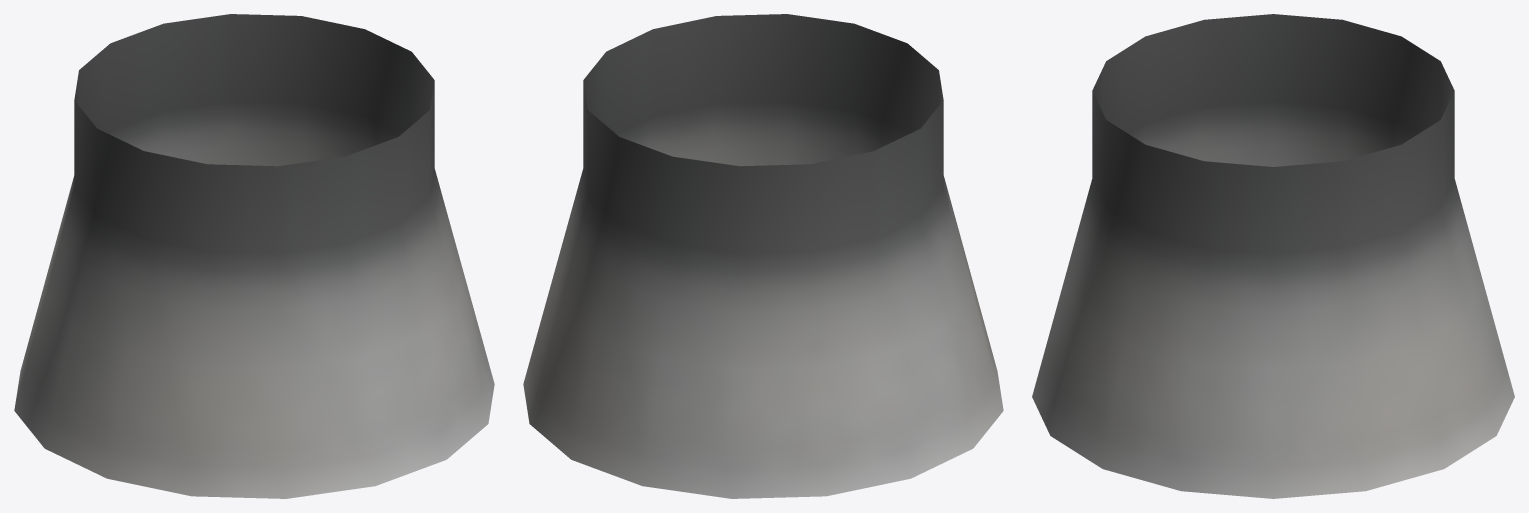
Rendered from AndromedaUS_VernierEngine_1_Nozzle.obj.
The picture shows the model from 3 angles, left to right: view 1: azimuth 30°, elevation 25°; view 2: azimuth 150°, elevation 25°; view 3: azimuth 270°, elevation 25°; orthographic projection.
Visible parts, largest first — view 1: AndromedaUS_VernierEngine_1_Nozzle; view 2: AndromedaUS_VernierEngine_1_Nozzle; view 3: AndromedaUS_VernierEngine_1_Nozzle.
Part boxes in pixels (left/top/right/bottom): AndromedaUS_VernierEngine_1_Nozzle: left=14, top=14, right=494, bottom=498; AndromedaUS_VernierEngine_1_Nozzle: left=523, top=14, right=1003, bottom=498; AndromedaUS_VernierEngine_1_Nozzle: left=1032, top=14, right=1514, bottom=498.
Bounding box in the file's own units: 0.125 × 0.0875 × 0.125.
